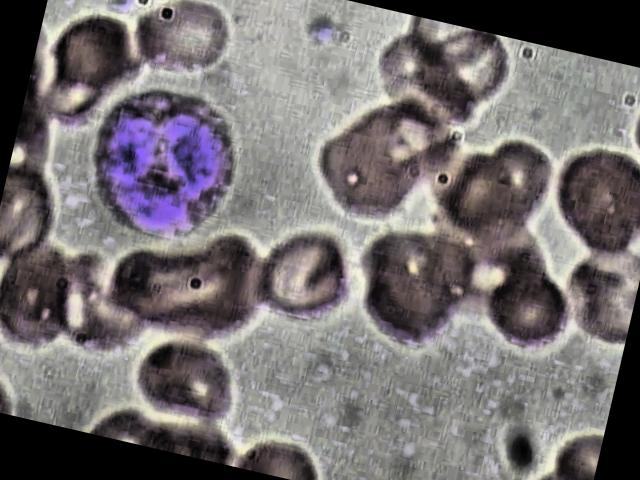RBC: (344, 223, 487, 364), (305, 110, 431, 234), (244, 222, 366, 337), (125, 326, 246, 441), (537, 143, 640, 268), (0, 225, 92, 360), (410, 23, 522, 125), (38, 5, 146, 109), (118, 0, 241, 89), (478, 272, 579, 360), (512, 462, 593, 480)
WBC: (61, 66, 264, 256), (302, 15, 338, 48)
